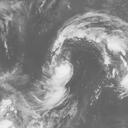cyclone: (44, 59, 74, 104)
